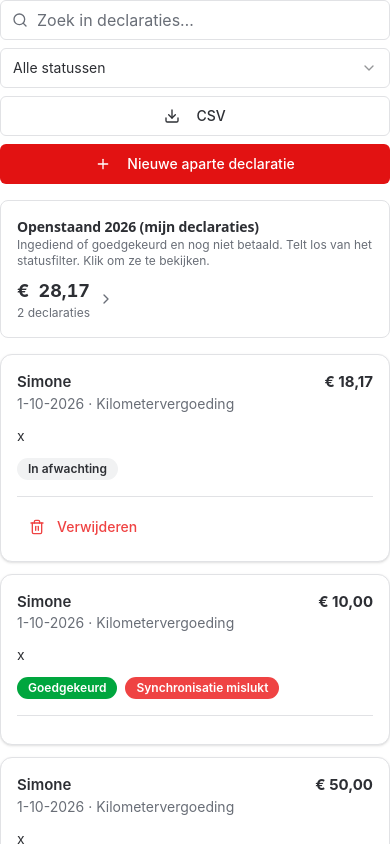
Scenario: InternalDeclarationsView open totaal › gewone gebruiker ziet alleen eigen open records en formulier blijft ingevuld na sluiten
Click the button "Nieuwe aparte declaratie": x=195, y=164 [0,144,389,184]
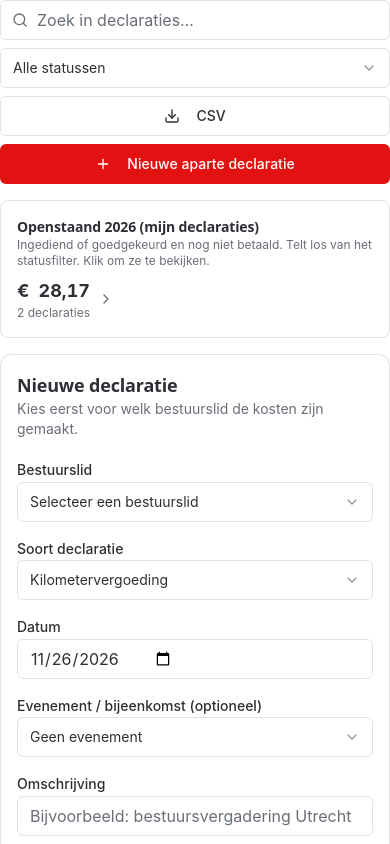
In the field with placeholder "Bijvoorbeeld: bestuursvergadering Utrecht": x=195, y=816 [17,796,373,836], type "Behouden tekst"
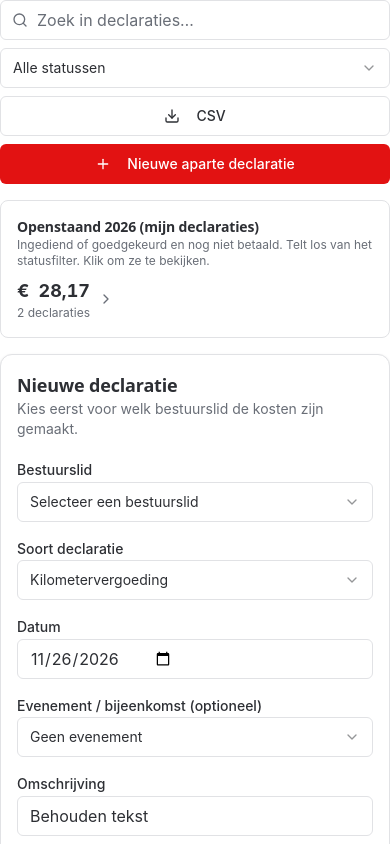
Click the button with aria-label "Bekijk openstaande declaraties": x=195, y=269 [1,201,389,337]
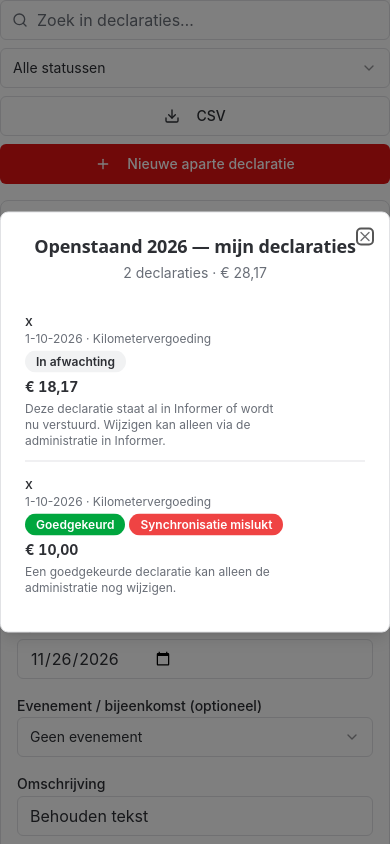
Now the text with test id "drill-summary" reads "2 declaraties · € 28,17", box [123,264,267,280]
Press Escape in the button, box [357,228,373,244]
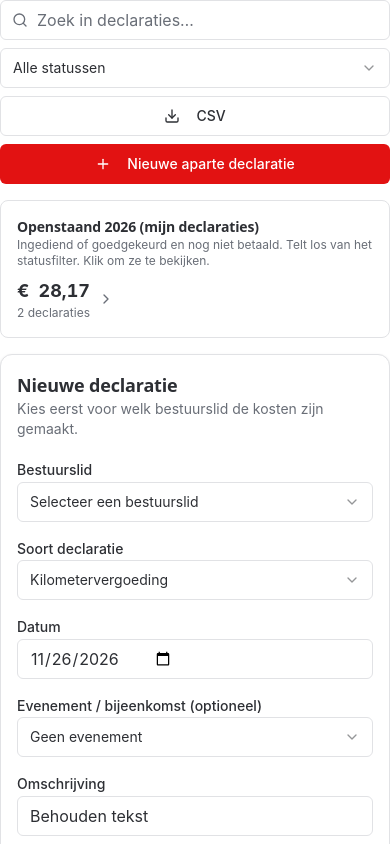
Now the text with test id "drill-summary" is gone
